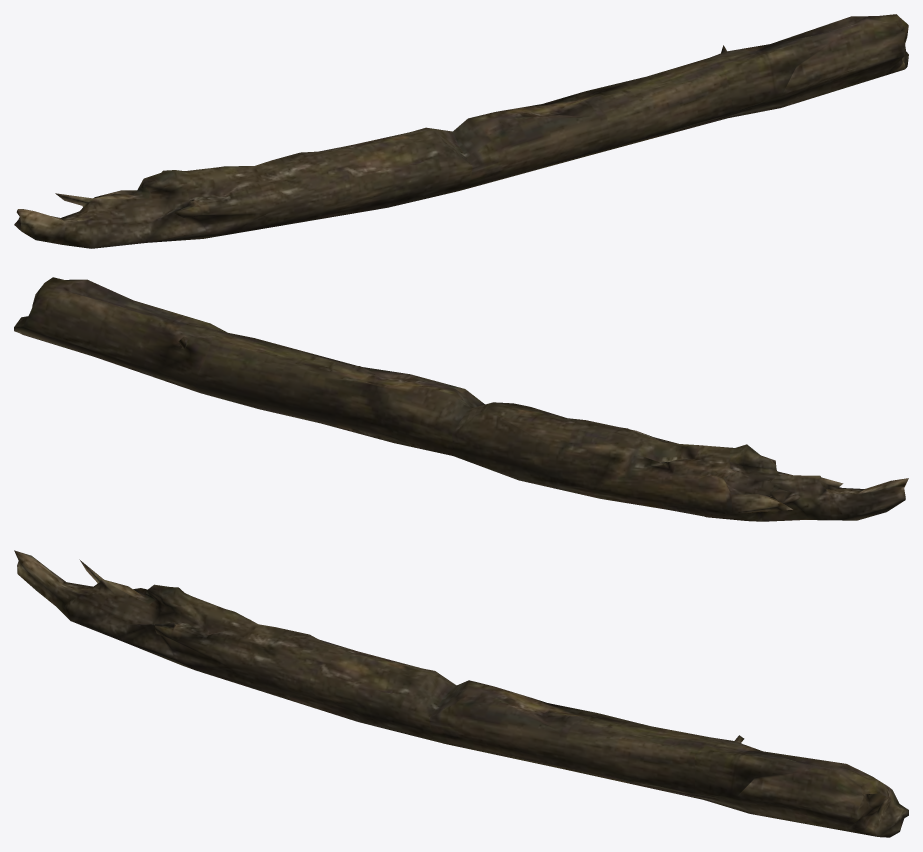
Rendered from log.glb.
3 renders of one model, top to bottom at view 1: azimuth 30°, elevation 25°; view 2: azimuth 150°, elevation 25°; view 3: azimuth 330°, elevation 25°, orthographic.
Parts seen in each view (by area): view 1: dead_tree_trunk; view 2: dead_tree_trunk; view 3: dead_tree_trunk.
Boxes of the visible parts, box(x1,y1,x2,y2) form: dead_tree_trunk: box(14, 14, 908, 248); dead_tree_trunk: box(14, 277, 908, 521); dead_tree_trunk: box(14, 550, 908, 837).
Size of the model in its own units: 3.04 by 0.2847 by 0.2717.
1 material, 1 textured.
